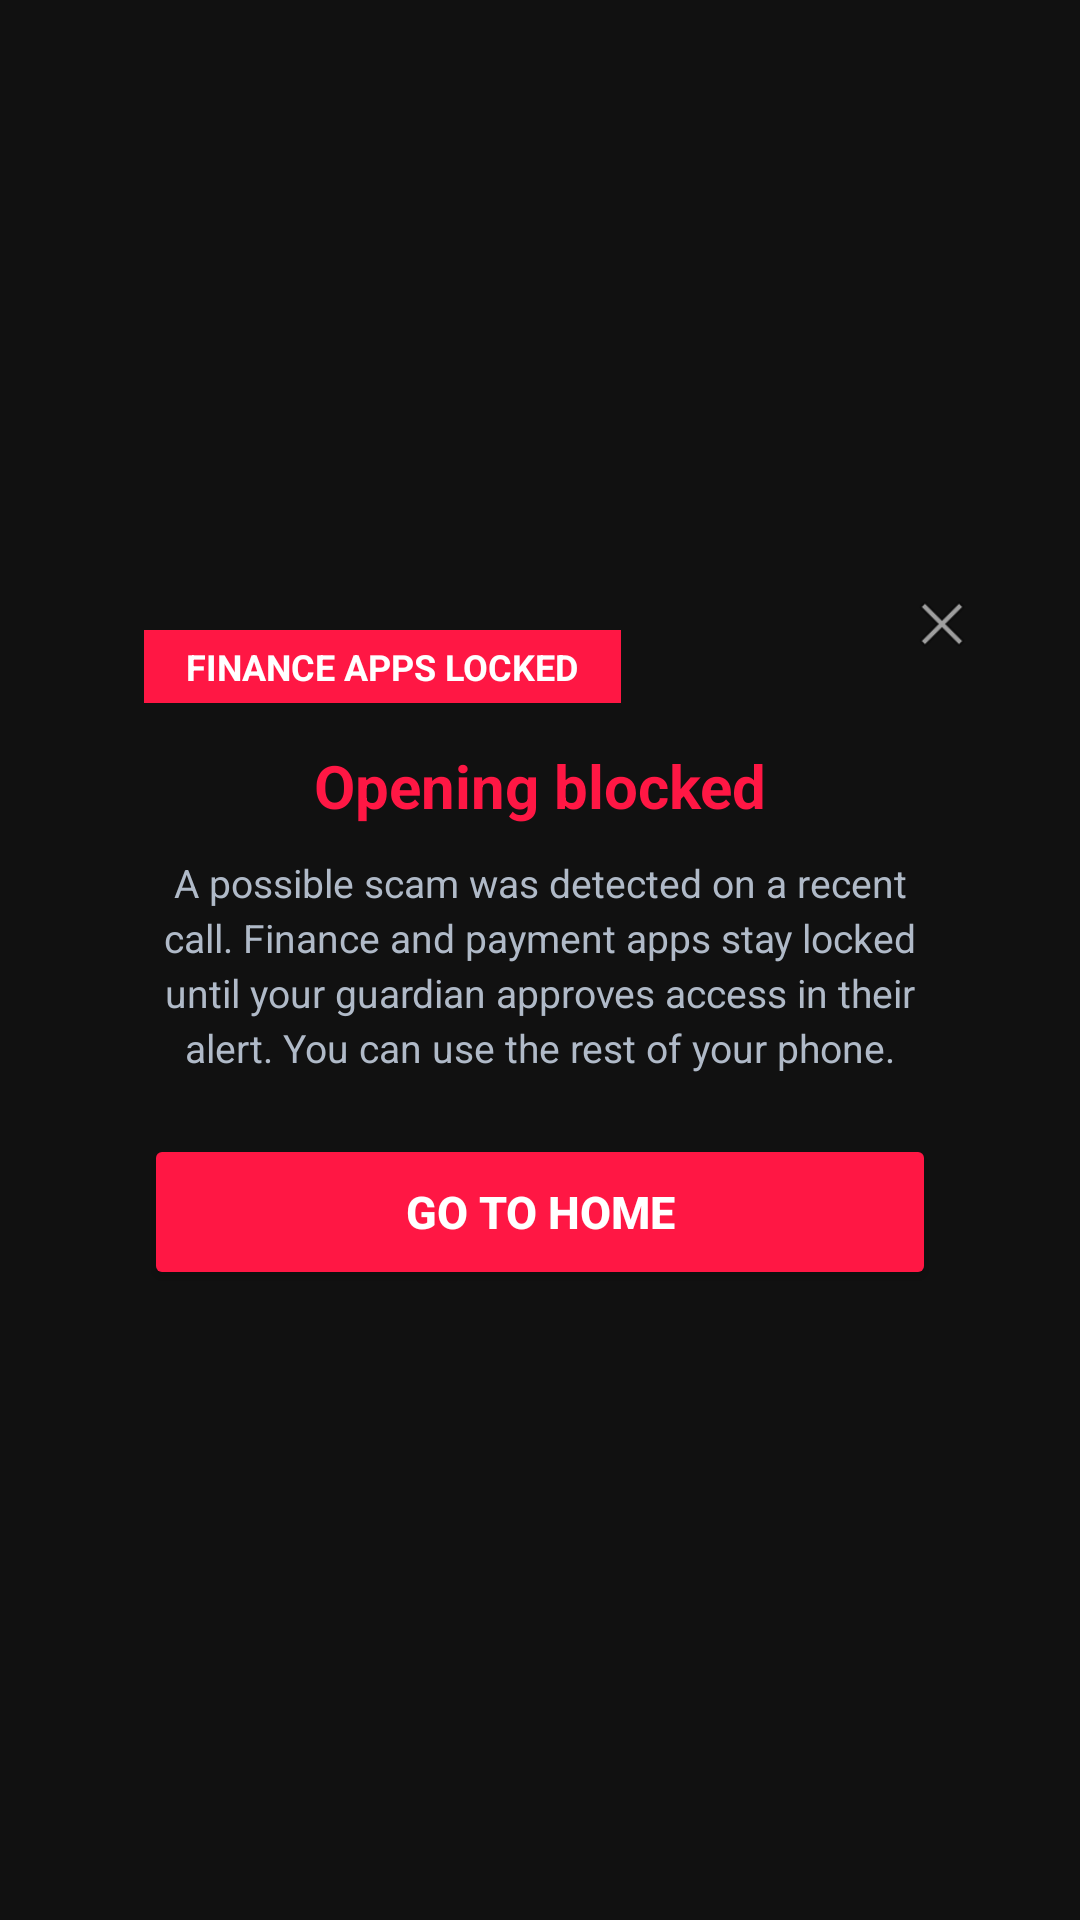

Point at icon controls on the screen. Image size 1080×1920, points as (x,y).
Dismiss overlay (debug): (942,624)
